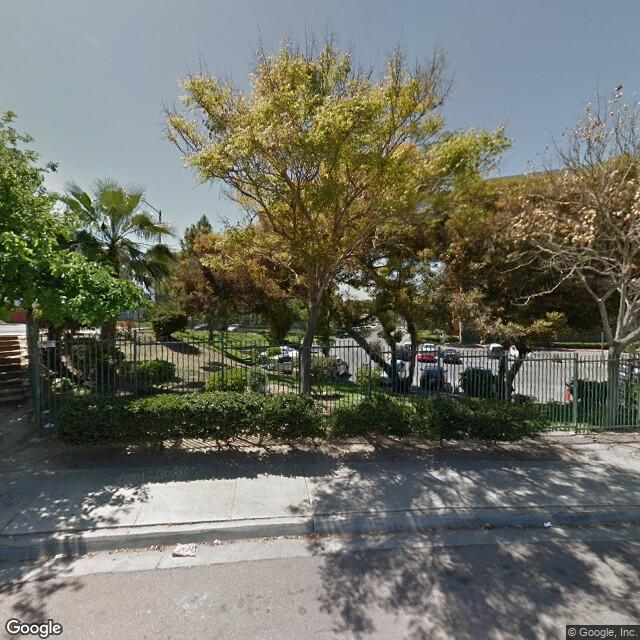litter: (163, 535, 210, 562), (540, 519, 561, 529)
